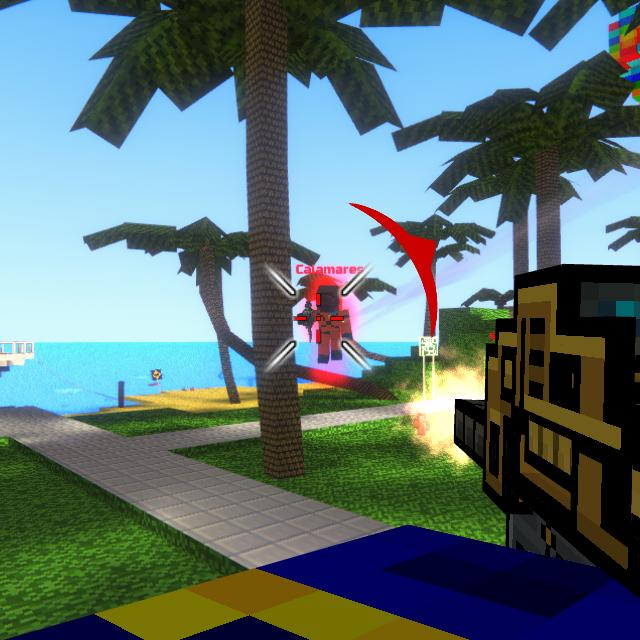Enemy: (297, 285, 353, 364)
